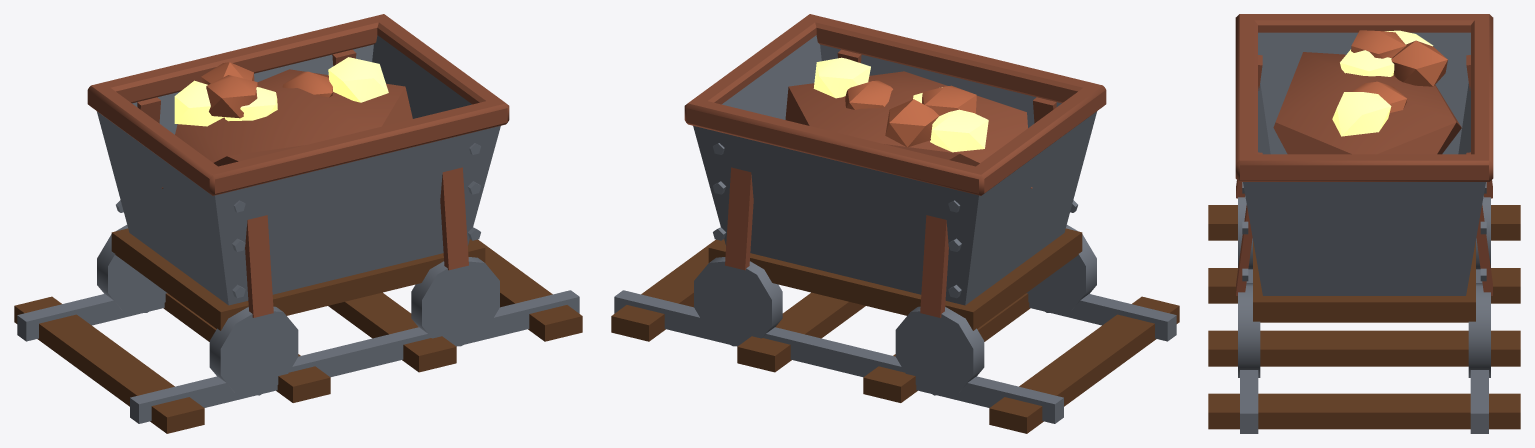
The model's file is Minecart.fbx.
3 renders of one model, left to right at view 1: azimuth 30°, elevation 25°; view 2: azimuth 150°, elevation 25°; view 3: azimuth 270°, elevation 25°, orthographic. The views are drawn at different scales.
Visible parts, largest first — view 1: Steel, RockDark, WoodDark, Glow, Rock; view 2: Steel, RockDark, WoodDark, Rock, Glow; view 3: Steel, WoodDark, RockDark, Rock, Glow.
Boxes of the visible parts, bbox=[...] form: Steel: bbox=[17, 35, 579, 423]; RockDark: bbox=[87, 14, 509, 317]; WoodDark: bbox=[14, 228, 582, 433]; Glow: bbox=[174, 57, 388, 126]; Rock: bbox=[201, 62, 332, 118]; Steel: bbox=[614, 35, 1176, 423]; RockDark: bbox=[684, 14, 1106, 317]; WoodDark: bbox=[611, 228, 1179, 433]; Rock: bbox=[845, 80, 976, 147]; Glow: bbox=[813, 57, 988, 152]; Steel: bbox=[1238, 32, 1490, 433]; WoodDark: bbox=[1208, 205, 1520, 429]; RockDark: bbox=[1235, 14, 1493, 295]; Rock: bbox=[1351, 30, 1447, 112]; Glow: bbox=[1332, 30, 1433, 136].
Size of the model in its own units: 7 by 3.95 by 4.2.
